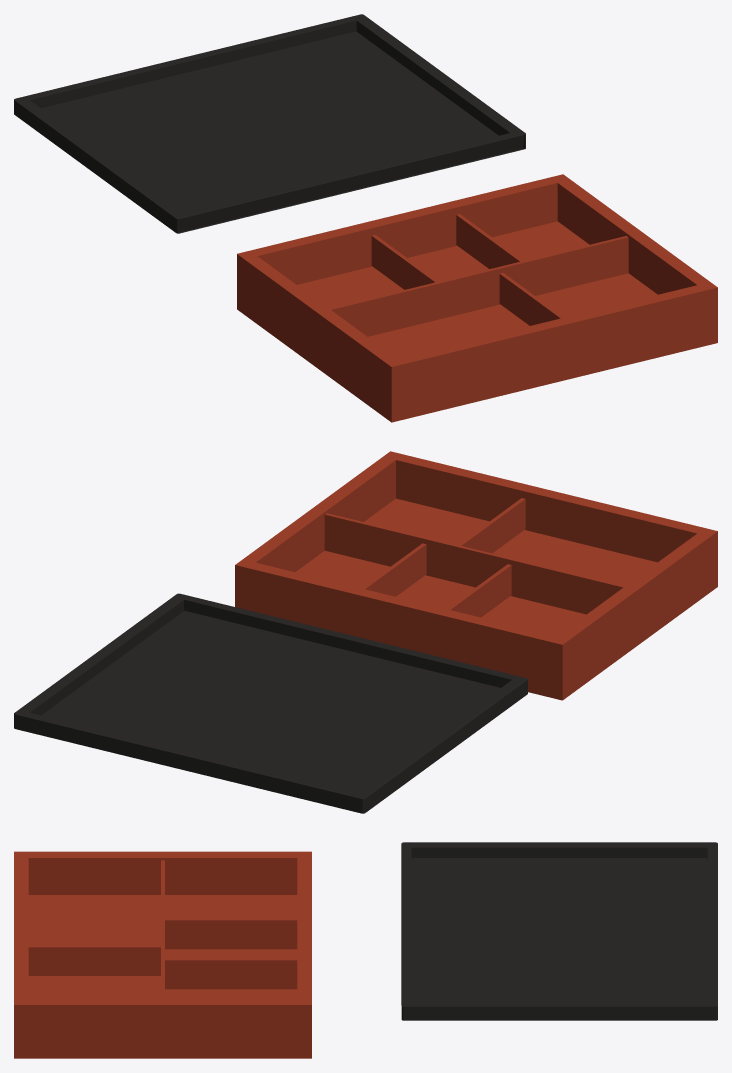
Rendered from bentotray.glb.
The picture shows the model from 3 angles, top to bottom: view 1: azimuth 30°, elevation 25°; view 2: azimuth 150°, elevation 25°; view 3: azimuth 270°, elevation 25°; orthographic projection. The views are drawn at different scales.
Parts seen in each view (by area): view 1: Cube.006, Cube, Cube.002, Cube.004, Cube.003, Cube.005; view 2: Cube.006, Cube, Cube.002, Cube.005, Cube.003, Cube.004; view 3: Cube.006, Cube, Cube.003, Cube.004, Cube.005, Cube.002.
Boxes of the visible parts, x1,y1,x2,y2 form: Cube.006: (14,14,525,233); Cube: (237,174,717,422); Cube.002: (329,236,628,336); Cube.004: (371,234,438,289); Cube.003: (456,214,523,268); Cube.005: (499,272,564,325); Cube.006: (14,593,527,813); Cube: (235,451,717,700); Cube.002: (324,513,624,614); Cube.005: (458,498,525,553); Cube.003: (361,543,426,596); Cube.004: (446,564,511,617); Cube.006: (401,842,717,1020); Cube: (14,851,311,1058); Cube.003: (165,958,297,989); Cube.004: (165,918,297,949); Cube.005: (28,945,160,975); Cube.002: (161,860,164,998).
Bounding box in the file's own units: 4.29 × 0.6912 × 7.76.
